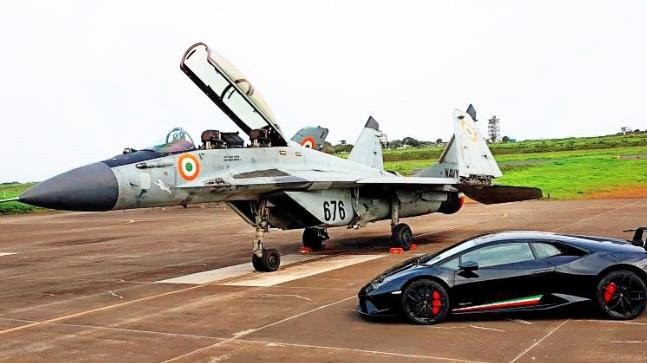Mig-29: (21, 39, 519, 270)
